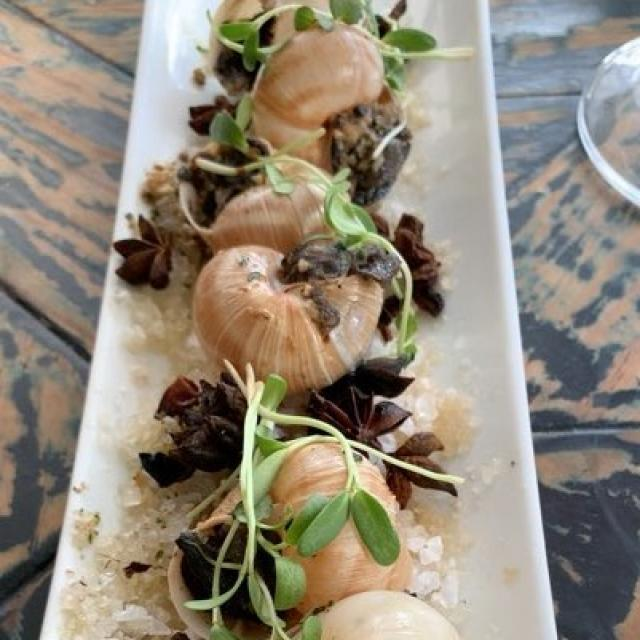sauce: (243, 105, 408, 331)
